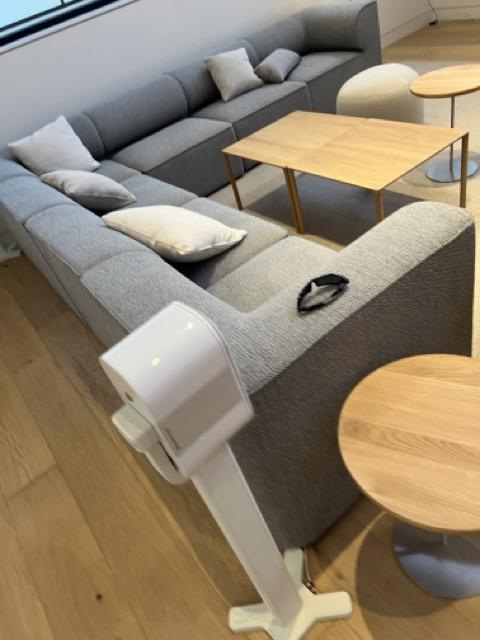Sunglasses: (296, 272, 349, 313)
